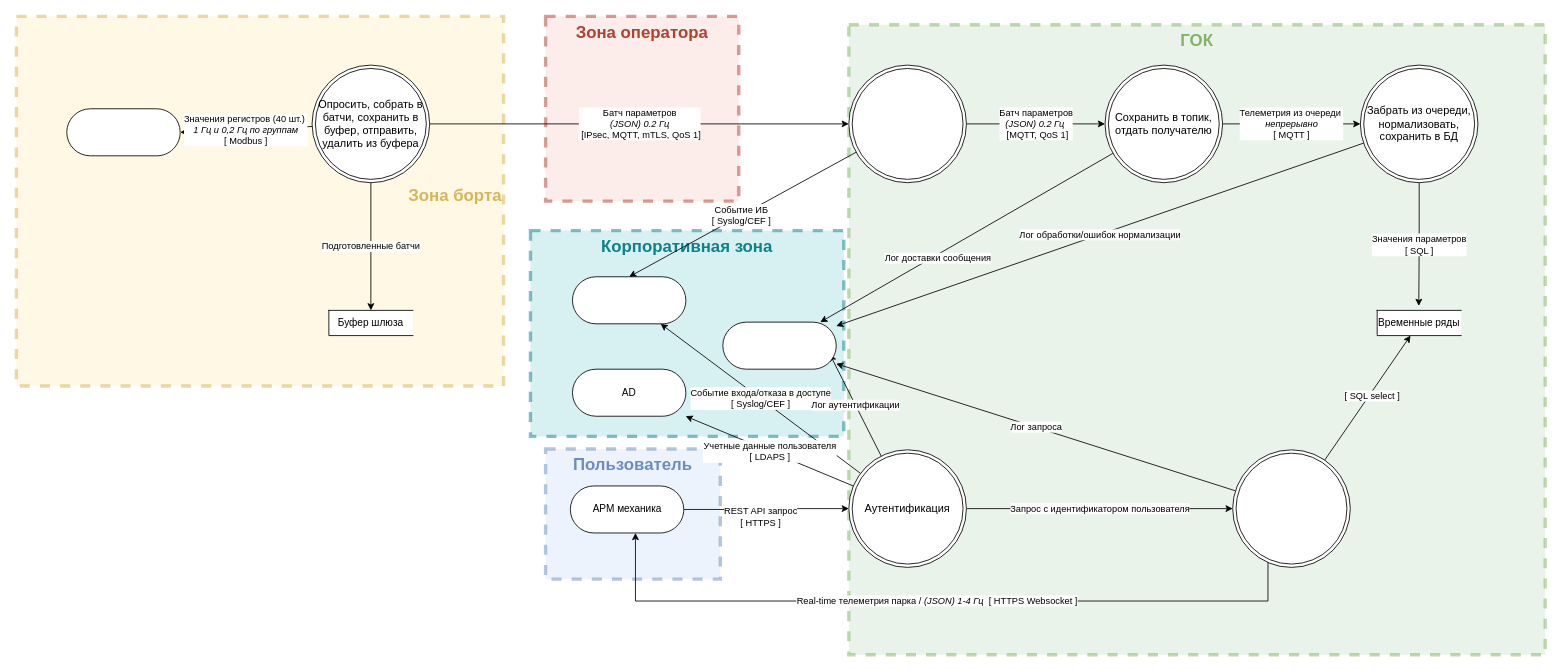
This 1561x670 diagram has some shape labels left out. Here are the shapes that lost their labels. From the top down, the centre of each, then its label:
At (123,132): "Бортовой контроллер".
At (907,123): "Терминировать mTLS, проверить источник".
At (629,300): "SIEM".
At (779,345): "Сервис логирования".
At (1291,508): "Маппинг, и звлечение данных, формирование ответа".
